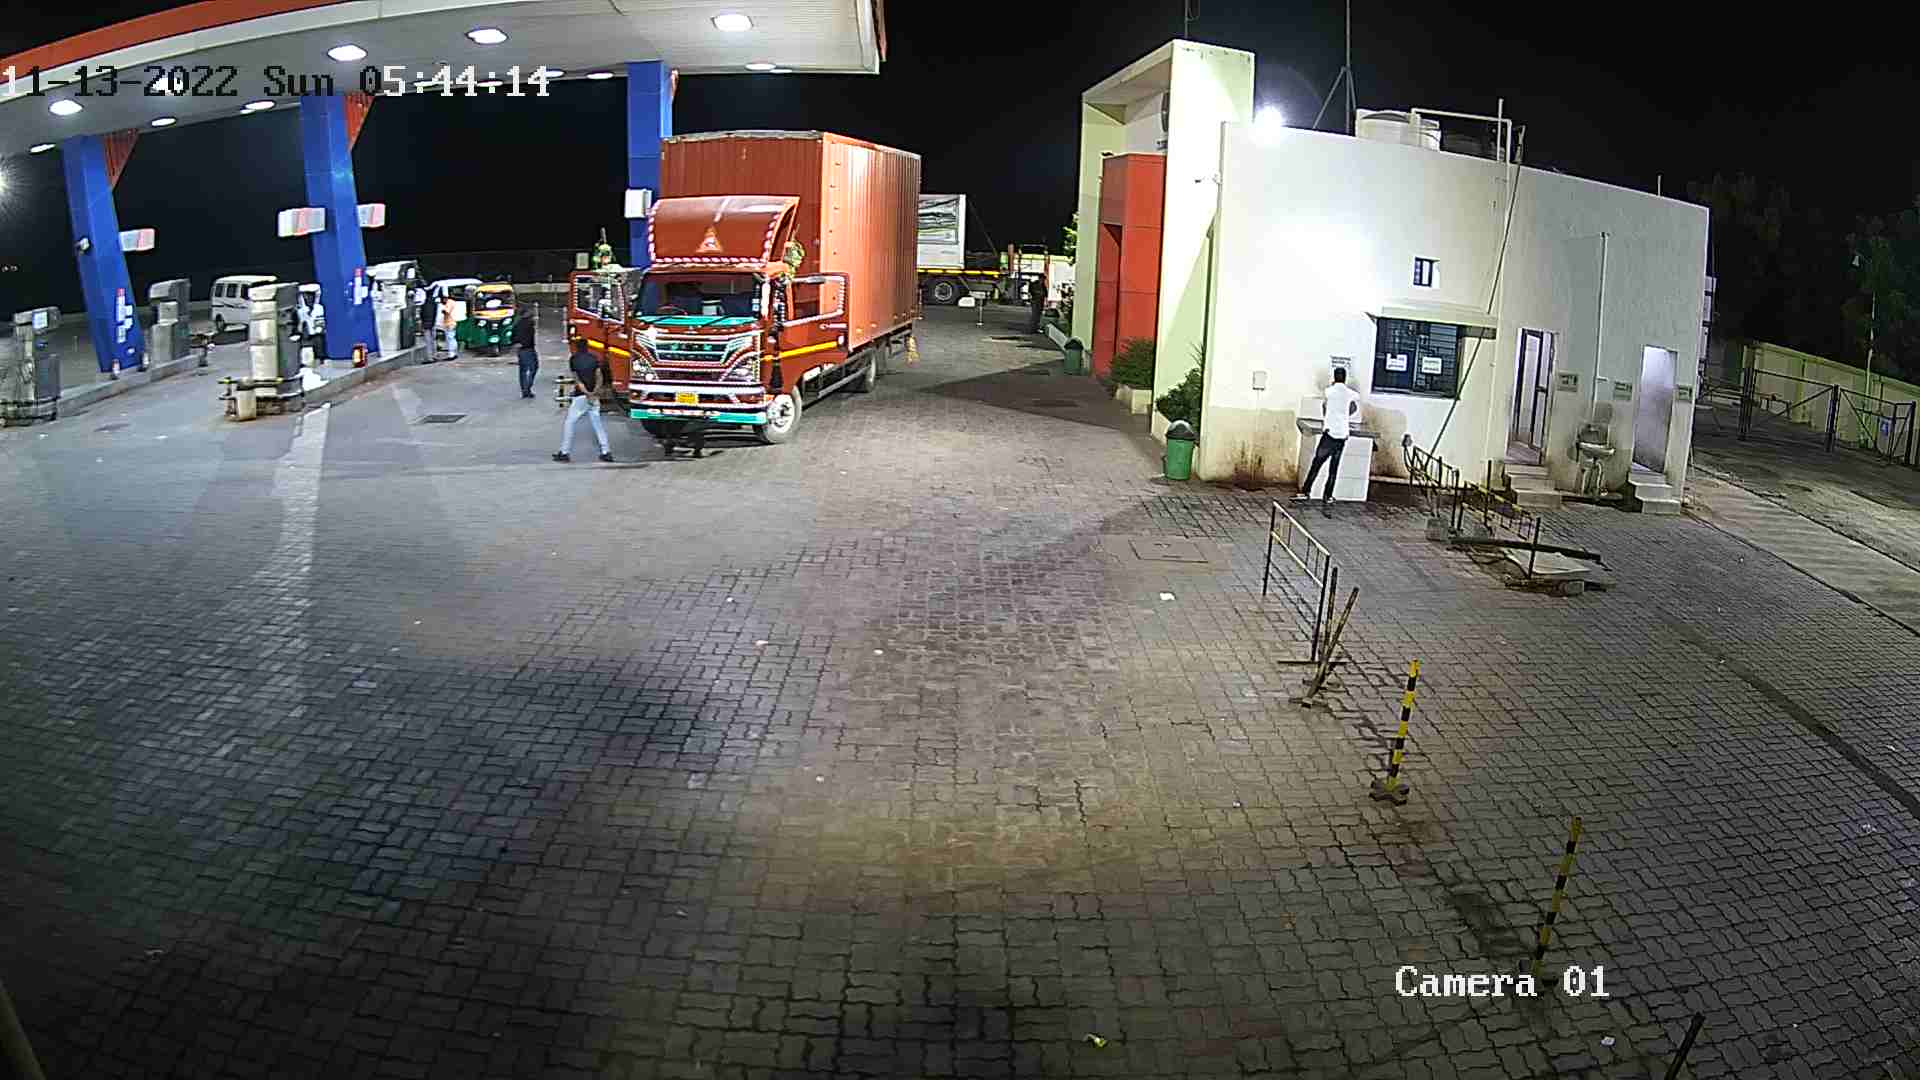Auto: (443, 274, 535, 357)
Car: (402, 266, 481, 345), (204, 272, 276, 342), (287, 278, 326, 365)
HMV: (558, 120, 934, 462), (895, 185, 1043, 307)
